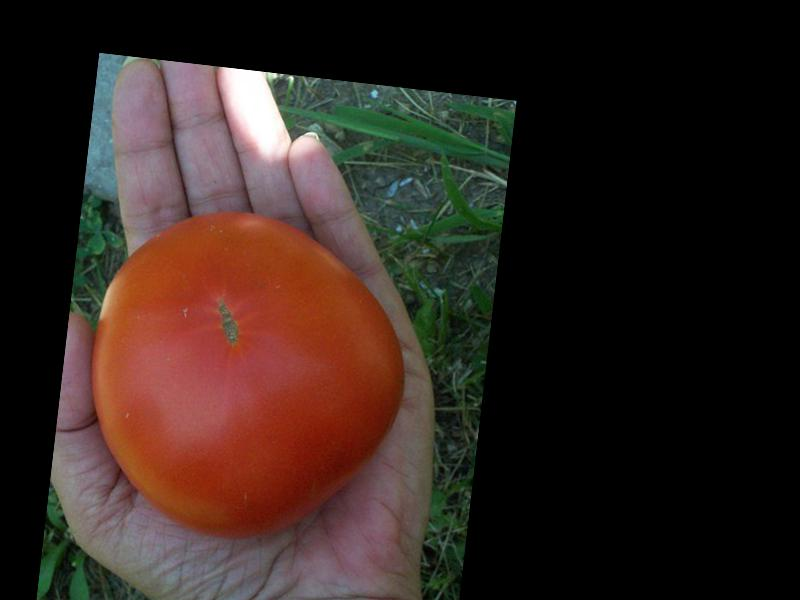Tomato: (74, 198, 421, 552)
